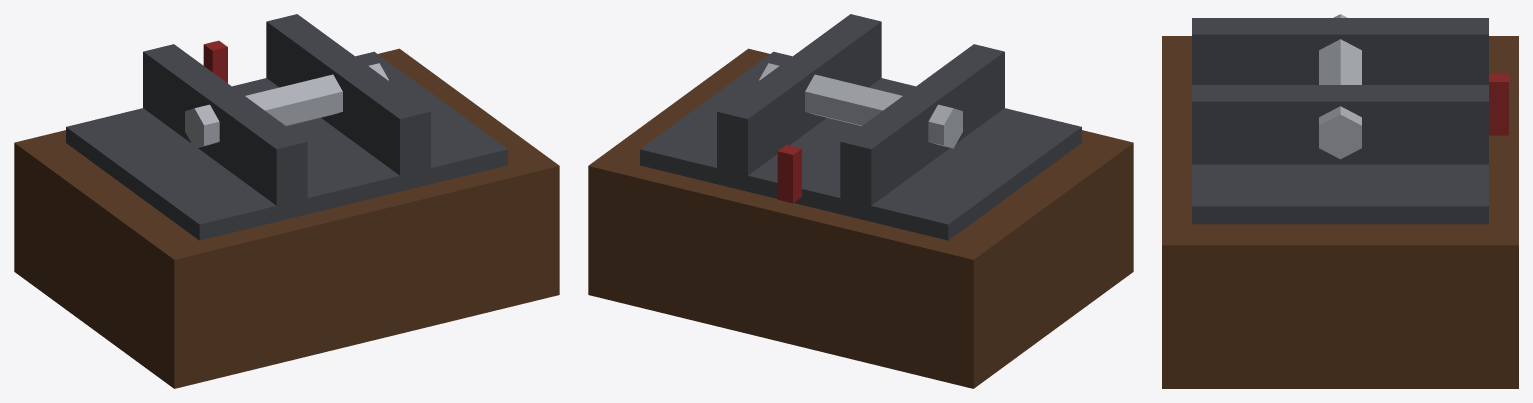
The model's file is mine_switch_lever.glb.
3 views of the same model, side by side, from view 1: azimuth 30°, elevation 25°; view 2: azimuth 150°, elevation 25°; view 3: azimuth 270°, elevation 25° (orthographic). The views are drawn at different scales.
Parts seen in each view (by area): view 1: mine_switch_lever; view 2: mine_switch_lever; view 3: mine_switch_lever.
Boxes of the visible parts, x1,y1,x2,y2 form: mine_switch_lever: [14, 14, 559, 388]; mine_switch_lever: [588, 14, 1133, 388]; mine_switch_lever: [1162, 14, 1518, 388].
Size of the model in its own units: 0.5 by 0.25 by 0.36.
